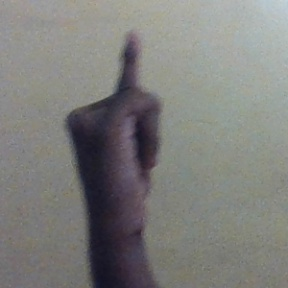I: (62, 27, 164, 228)
